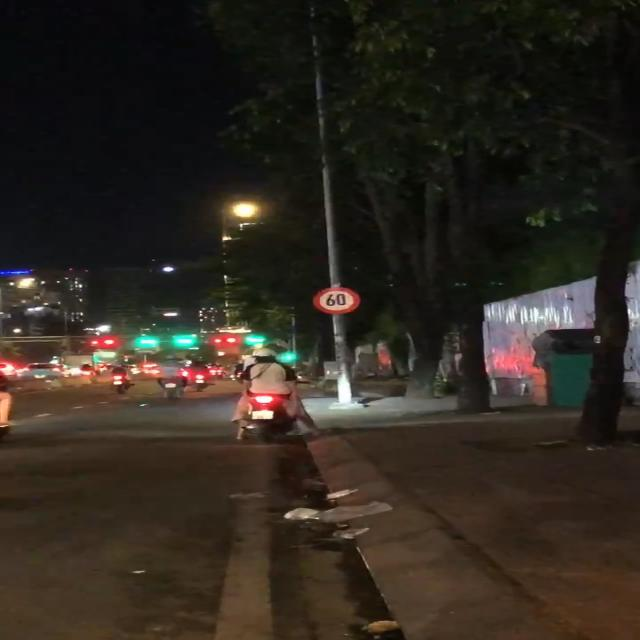Bien bao toc do toi da cho phep: (311, 283, 364, 316)
